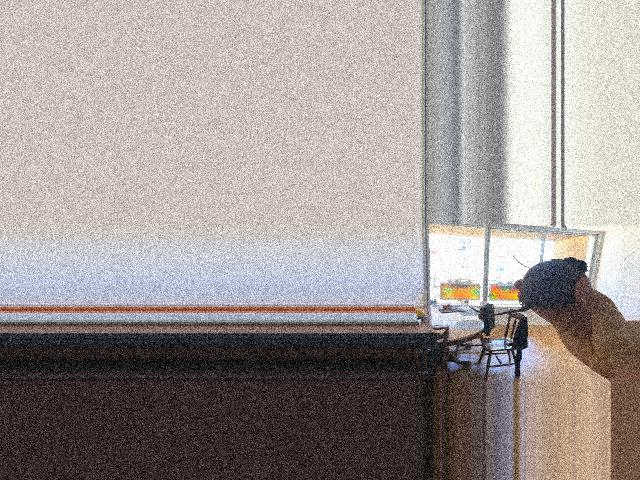beet: (468, 256, 586, 315)
